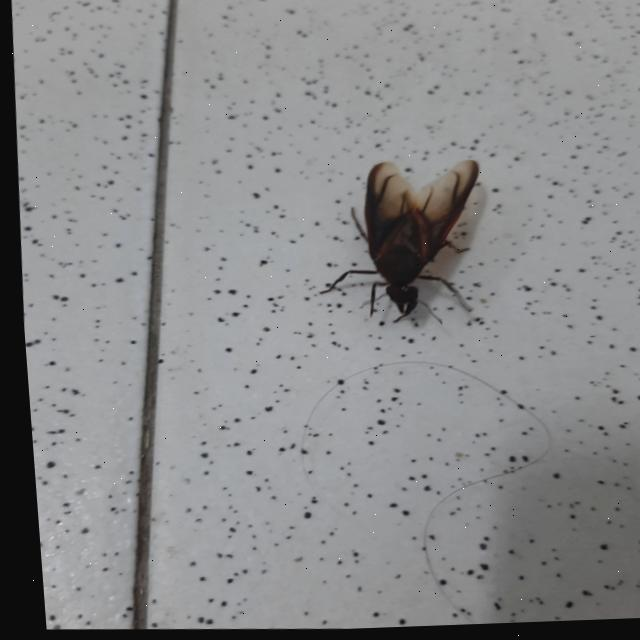Alive-Female-Alate: (304, 157, 484, 333)
